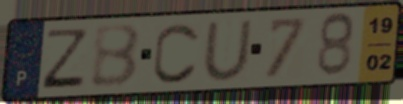7: (263, 14, 308, 81)
8: (314, 10, 359, 81)
B: (89, 22, 143, 90)
C: (151, 20, 203, 86)
U: (200, 17, 256, 83)
Z: (39, 28, 91, 92)
